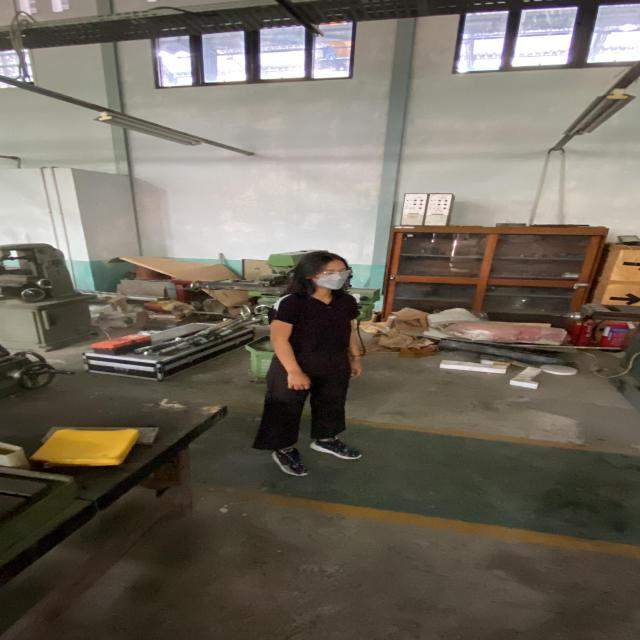face_mask: (314, 265, 352, 291)
glasses: (314, 270, 354, 278)
hand_noglove: (282, 372, 314, 394), (344, 362, 367, 381)
head_nohelmet: (297, 248, 348, 268)
person: (256, 247, 384, 476)
shoes: (264, 444, 314, 479), (306, 436, 365, 462)
